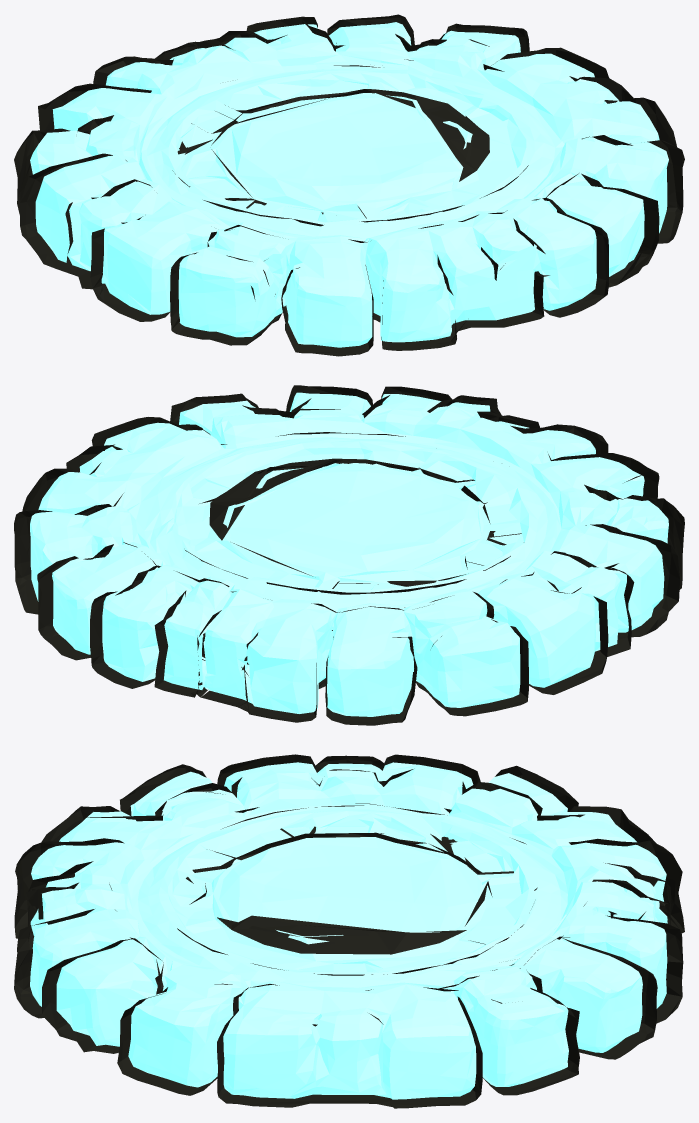
File: df_v2_base_plot_marker_a.glb
The picture shows the model from 3 angles, top to bottom: view 1: azimuth 30°, elevation 25°; view 2: azimuth 150°, elevation 25°; view 3: azimuth 270°, elevation 25°; orthographic projection. The views are drawn at different scales.
Visible parts, largest first — view 1: base_plot_marker_mesh_01, base_plot_marker_mesh_01_ink_outline; view 2: base_plot_marker_mesh_01, base_plot_marker_mesh_01_ink_outline; view 3: base_plot_marker_mesh_01, base_plot_marker_mesh_01_ink_outline.
Boxes of the visible parts, bbox=[...] form: base_plot_marker_mesh_01: bbox=[30, 22, 668, 347]; base_plot_marker_mesh_01_ink_outline: bbox=[14, 14, 684, 356]; base_plot_marker_mesh_01: bbox=[30, 392, 668, 716]; base_plot_marker_mesh_01_ink_outline: bbox=[14, 385, 684, 725]; base_plot_marker_mesh_01: bbox=[30, 762, 667, 1099]; base_plot_marker_mesh_01_ink_outline: bbox=[14, 754, 684, 1108].
Bounding box in the file's own units: 2.31 × 0.3526 × 2.27.
